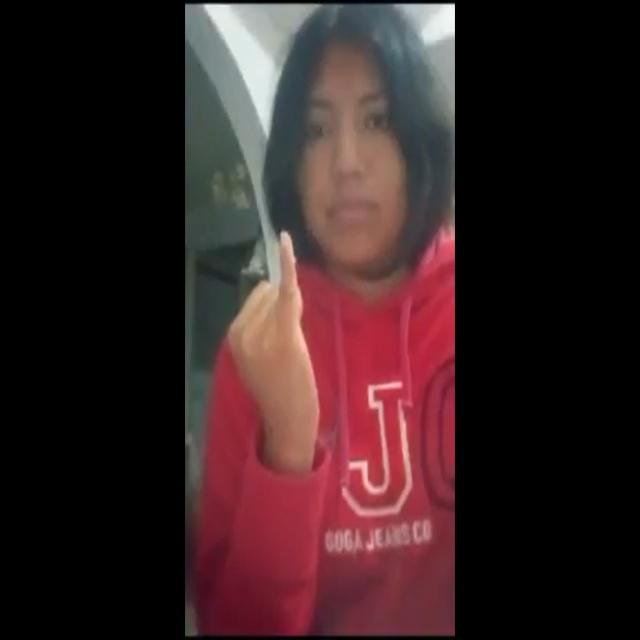J: (217, 208, 325, 487)
